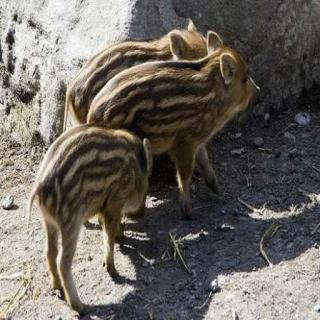Pig: (74, 49, 284, 218), (12, 120, 172, 318)
